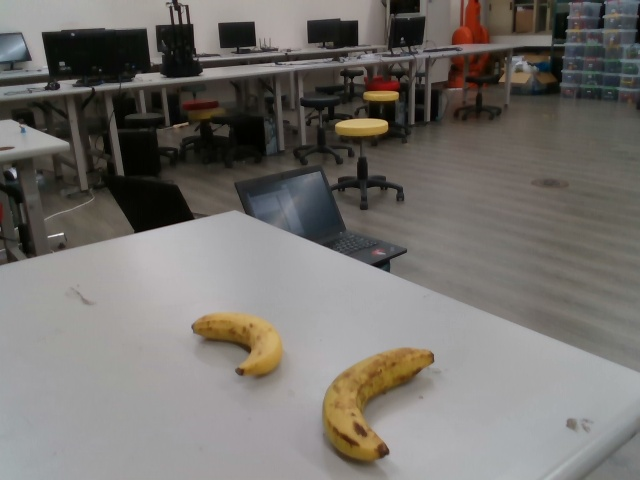banana: (321, 344, 436, 466), (190, 309, 282, 378)
